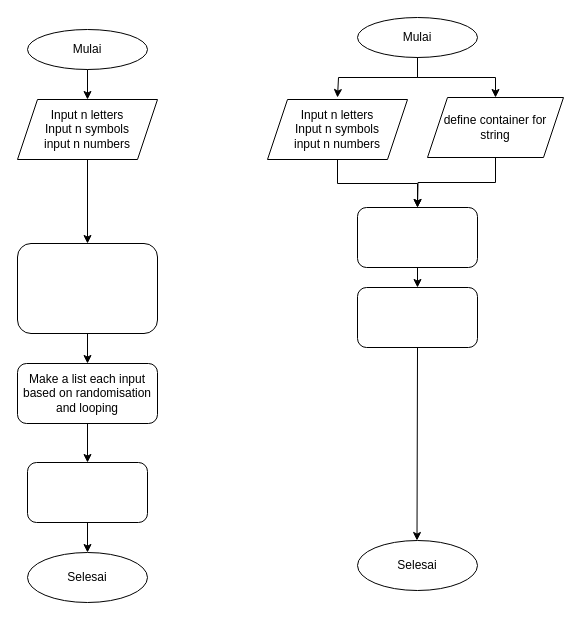
The diagram is 581 pixels wide and 620 high, and some of its shapes have lost their labels. The shapes that lost their labels are listed below. From the top down, each one's centre as x and y in pixels, then its label:
At pixel 417 237: "Randomise n char".
At pixel 87 288: "Define n number in letters, symbols and number".
At pixel 417 317: "Looping n char to fill string container".
At pixel 87 492: "Merge all list into one list".
